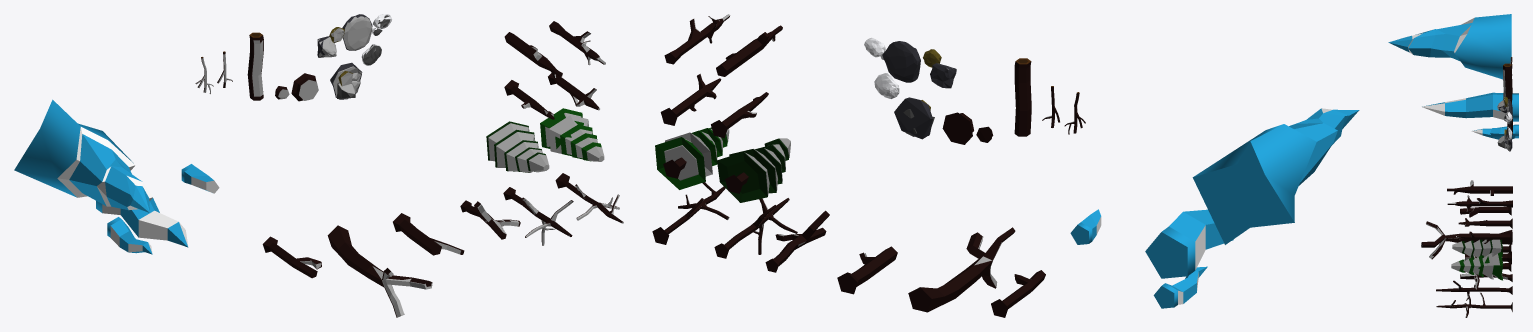
Rendered from forest_2.fbx.
3 renders of one model, left to right at view 1: azimuth 30°, elevation 25°; view 2: azimuth 150°, elevation 25°; view 3: azimuth 270°, elevation 25°, orthographic. The views are drawn at different scales.
Parts seen in each view (by area): view 1: forest11_2, forest3_2, forest4_2, forest6_2, forest16_2, forest25_2, forest7_2, forest14_2, forest15_2, forest20_2, forest9_2, forest5_2 (+8 smaller); view 2: forest11_2, forest16_2, forest3_2, forest4_2, forest6_2, forest25_2, forest20_2, forest14_2, forest7_2, forest9_2, forest8_2, forest15_2 (+9 smaller); view 3: forest11_2, forest16_2, forest4_2, forest3_2, forest6_2, forest26_2, forest9_2, forest27_2, forest10_2, forest1_2, forest5_2, forest25_2 (+6 smaller).
Part boxes in pixels (x1,y1,x2,y2): forest11_2: (14, 99, 152, 212); forest3_2: (486, 121, 549, 172); forest4_2: (540, 108, 604, 161); forest6_2: (327, 225, 432, 317); forest16_2: (96, 198, 188, 247); forest25_2: (247, 32, 263, 100); forest7_2: (393, 213, 464, 255); forest14_2: (330, 62, 362, 99); forest15_2: (107, 217, 152, 254); forest20_2: (342, 14, 372, 50); forest9_2: (503, 187, 573, 245); forest5_2: (262, 236, 321, 278); forest11_2: (1192, 108, 1359, 244); forest16_2: (1145, 209, 1233, 278); forest3_2: (717, 138, 790, 202); forest4_2: (655, 127, 729, 189); forest6_2: (908, 227, 1015, 312); forest25_2: (1014, 58, 1031, 136); forest20_2: (882, 41, 920, 82); forest14_2: (894, 97, 934, 139); forest7_2: (837, 246, 897, 294); forest9_2: (714, 198, 797, 258); forest8_2: (765, 210, 829, 272); forest15_2: (1153, 266, 1207, 308); forest11_2: (1388, 14, 1511, 79); forest16_2: (1421, 92, 1518, 121); forest4_2: (1451, 252, 1511, 280); forest3_2: (1452, 239, 1511, 262); forest6_2: (1421, 221, 1512, 259); forest26_2: (1447, 180, 1512, 195); forest9_2: (1436, 273, 1512, 307); forest27_2: (1447, 195, 1512, 211); forest10_2: (1436, 292, 1512, 317); forest1_2: (1456, 231, 1512, 243); forest5_2: (1460, 207, 1511, 217); forest25_2: (1503, 63, 1512, 103).
Bounding box in the file's own units: 2584 × 798 × 1127.
